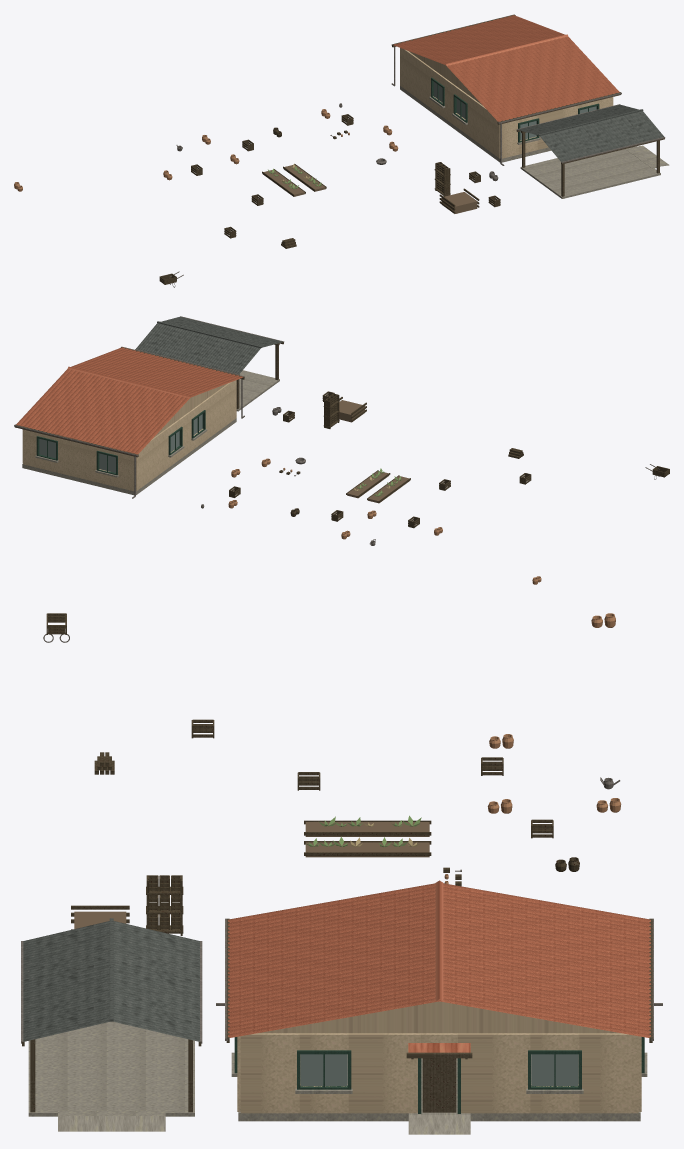
3 views of the same model, one above another, from view 1: azimuth 30°, elevation 25°; view 2: azimuth 150°, elevation 25°; view 3: azimuth 270°, elevation 25° (orthographic). The views are drawn at different scales.
Visible parts, largest first — view 1: H16_TELHAS, H16_GARAGEM_COBERTURA, H16_GARAGEM_BASE, H16_FUNDOS, H16_LATERAIS, H16_HORTA_TERRA, H16_FUNDACAO, H16_CAIXILHOS, H16_OITOES, H16_BEIRAIS, H16_VIDROS_RECUADOS, H16_COMPOSTO_COMPOSTO; view 2: H16_TELHAS, H16_GARAGEM_COBERTURA, H16_FUNDOS, H16_LATERAIS, H16_FUNDACAO, H16_GARAGEM_BASE, H16_CAIXILHOS, H16_VIDROS_RECUADOS, H16_HORTA_TERRA, H16_OITOES, H16_BEIRAIS; view 3: H16_TELHAS, H16_FACHADA, H16_GARAGEM_COBERTURA, H16_GARAGEM_BASE, H16_OITOES, H16_FUNDACAO, H16_VIDROS_RECUADOS, H16_HORTA_TERRA, H16_PORTA_FOLHA, H16_CAIXILHOS, H16_GARAGEM_RAMPA, H16_HORTA_BORDAS (+6 smaller).
Part boxes in pixels (bbox=[...]): H16_TELHAS: bbox=[393, 15, 619, 121]; H16_GARAGEM_COBERTURA: bbox=[517, 104, 664, 161]; H16_GARAGEM_BASE: bbox=[520, 149, 660, 198]; H16_FUNDOS: bbox=[400, 48, 500, 158]; H16_LATERAIS: bbox=[502, 97, 612, 158]; H16_HORTA_TERRA: bbox=[263, 165, 325, 196]; H16_FUNDACAO: bbox=[400, 86, 551, 162]; H16_CAIXILHOS: bbox=[431, 77, 599, 142]; H16_OITOES: bbox=[409, 51, 482, 105]; H16_BEIRAIS: bbox=[392, 14, 621, 124]; H16_VIDROS_RECUADOS: bbox=[433, 81, 596, 140]; H16_COMPOSTO_COMPOSTO: bbox=[441, 192, 477, 213]; H16_TELHAS: bbox=[16, 347, 242, 454]; H16_GARAGEM_COBERTURA: bbox=[136, 316, 282, 374]; H16_FUNDOS: bbox=[136, 380, 236, 491]; H16_LATERAIS: bbox=[23, 429, 134, 491]; H16_FUNDACAO: bbox=[22, 418, 236, 495]; H16_GARAGEM_BASE: bbox=[236, 370, 279, 411]; H16_CAIXILHOS: bbox=[36, 410, 205, 475]; H16_VIDROS_RECUADOS: bbox=[39, 414, 202, 472]; H16_HORTA_TERRA: bbox=[347, 471, 410, 503]; H16_OITOES: bbox=[154, 383, 227, 436]; H16_BEIRAIS: bbox=[15, 347, 244, 457]; H16_TELHAS: bbox=[228, 883, 650, 1037]; H16_FACHADA: bbox=[240, 1033, 638, 1113]; H16_GARAGEM_COBERTURA: bbox=[23, 921, 199, 1041]; H16_GARAGEM_BASE: bbox=[28, 1021, 194, 1116]; H16_OITOES: bbox=[258, 1001, 620, 1033]; H16_FUNDACAO: bbox=[238, 1054, 640, 1121]; H16_VIDROS_RECUADOS: bbox=[300, 1054, 578, 1085]; H16_HORTA_TERRA: bbox=[305, 822, 429, 857]; H16_PORTA_FOLHA: bbox=[422, 1058, 456, 1112]; H16_CAIXILHOS: bbox=[234, 1037, 644, 1089]; H16_GARAGEM_RAMPA: bbox=[58, 1116, 165, 1131]; H16_HORTA_BORDAS: bbox=[304, 820, 431, 855].
Size of the model in its own units: 36.86 by 4.28 by 19.68.
Materials: 14 (9 with a texture image).
